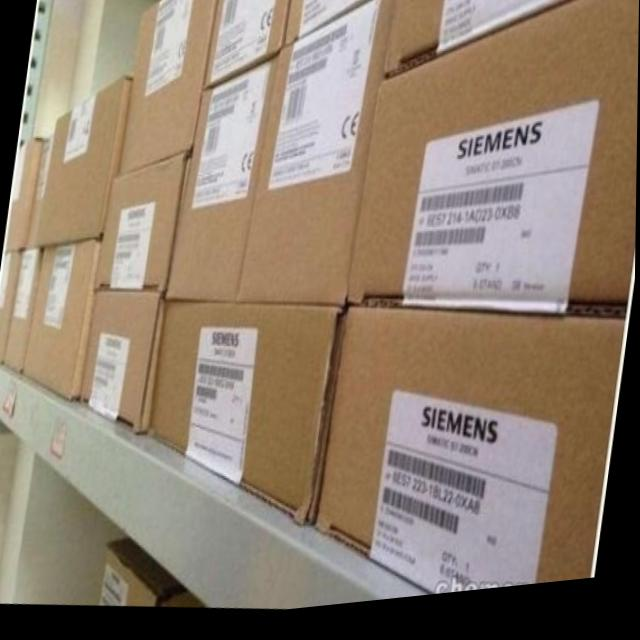box: (344, 0, 639, 321), (315, 316, 627, 604), (238, 0, 395, 316), (145, 305, 345, 535), (166, 55, 282, 306), (379, 0, 613, 89), (119, 0, 214, 179), (35, 77, 132, 250), (77, 291, 167, 436), (21, 243, 101, 402), (96, 159, 190, 294), (202, 0, 289, 95), (100, 542, 186, 610), (282, 0, 380, 54), (4, 250, 44, 376), (6, 136, 44, 251), (25, 137, 54, 250), (0, 249, 25, 366), (158, 592, 205, 612)
